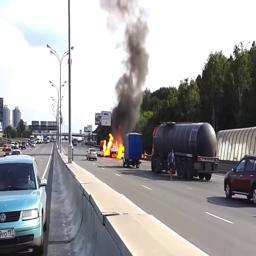fire: (102, 130, 124, 158)
